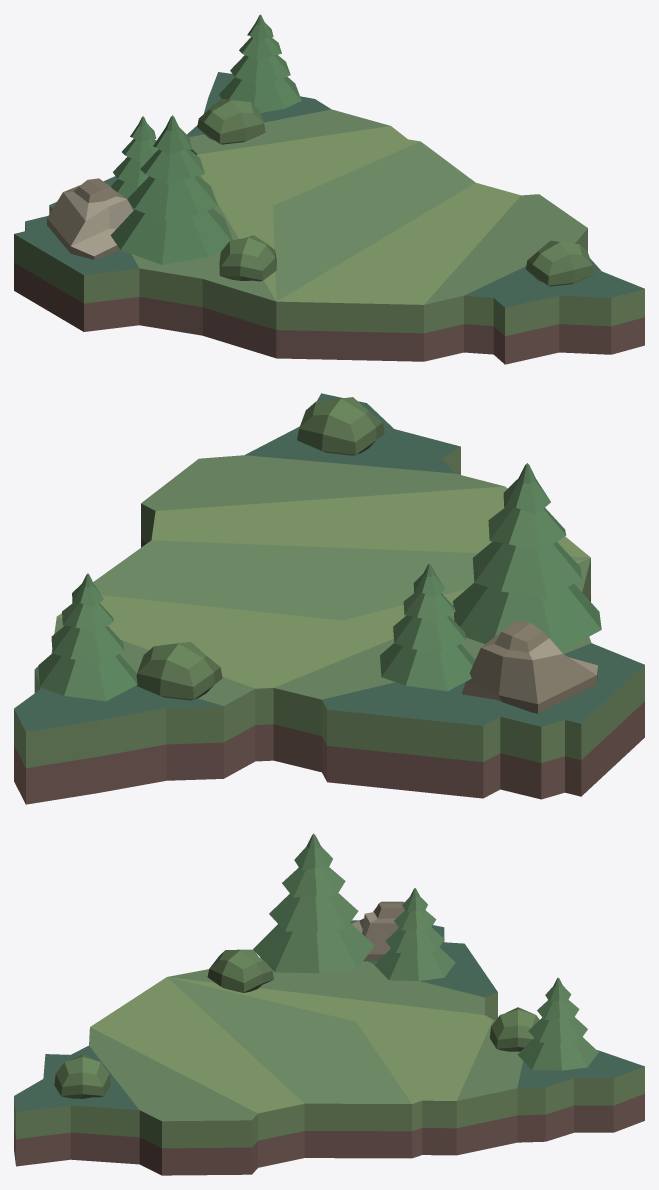
The model's file is nurba.gltf.
The picture shows the model from 3 angles, top to bottom: view 1: azimuth 30°, elevation 25°; view 2: azimuth 150°, elevation 25°; view 3: azimuth 270°, elevation 25°; orthographic projection. The views are drawn at different scales.
Visible parts, largest first — view 1: нюрба; view 2: нюрба; view 3: нюрба.
Part boxes in pixels (bbox=[...]): нюрба: bbox=[14, 14, 644, 364]; нюрба: bbox=[14, 393, 644, 804]; нюрба: bbox=[14, 833, 644, 1175].
Size of the model in its own units: 1.26 by 0.5325 by 1.64.
